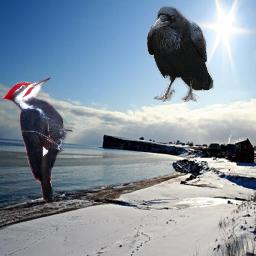Crow: (146, 5, 214, 102)
Woodpecker: (2, 77, 73, 204)
